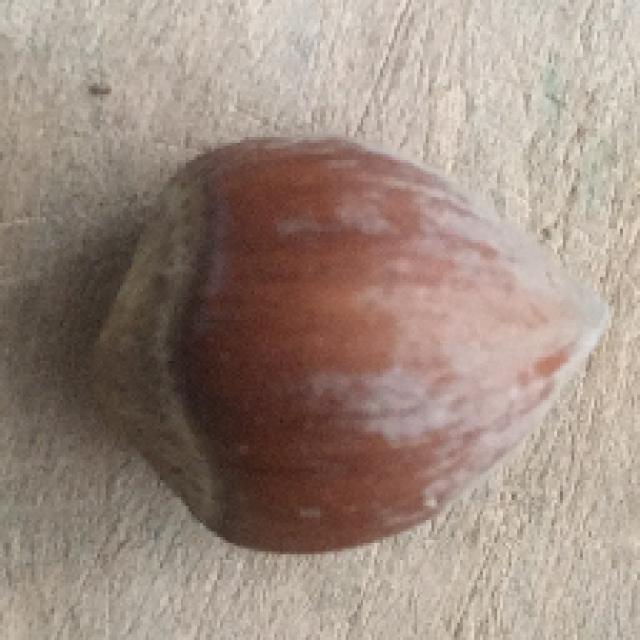QualityHazelnut: (93, 138, 610, 553)
